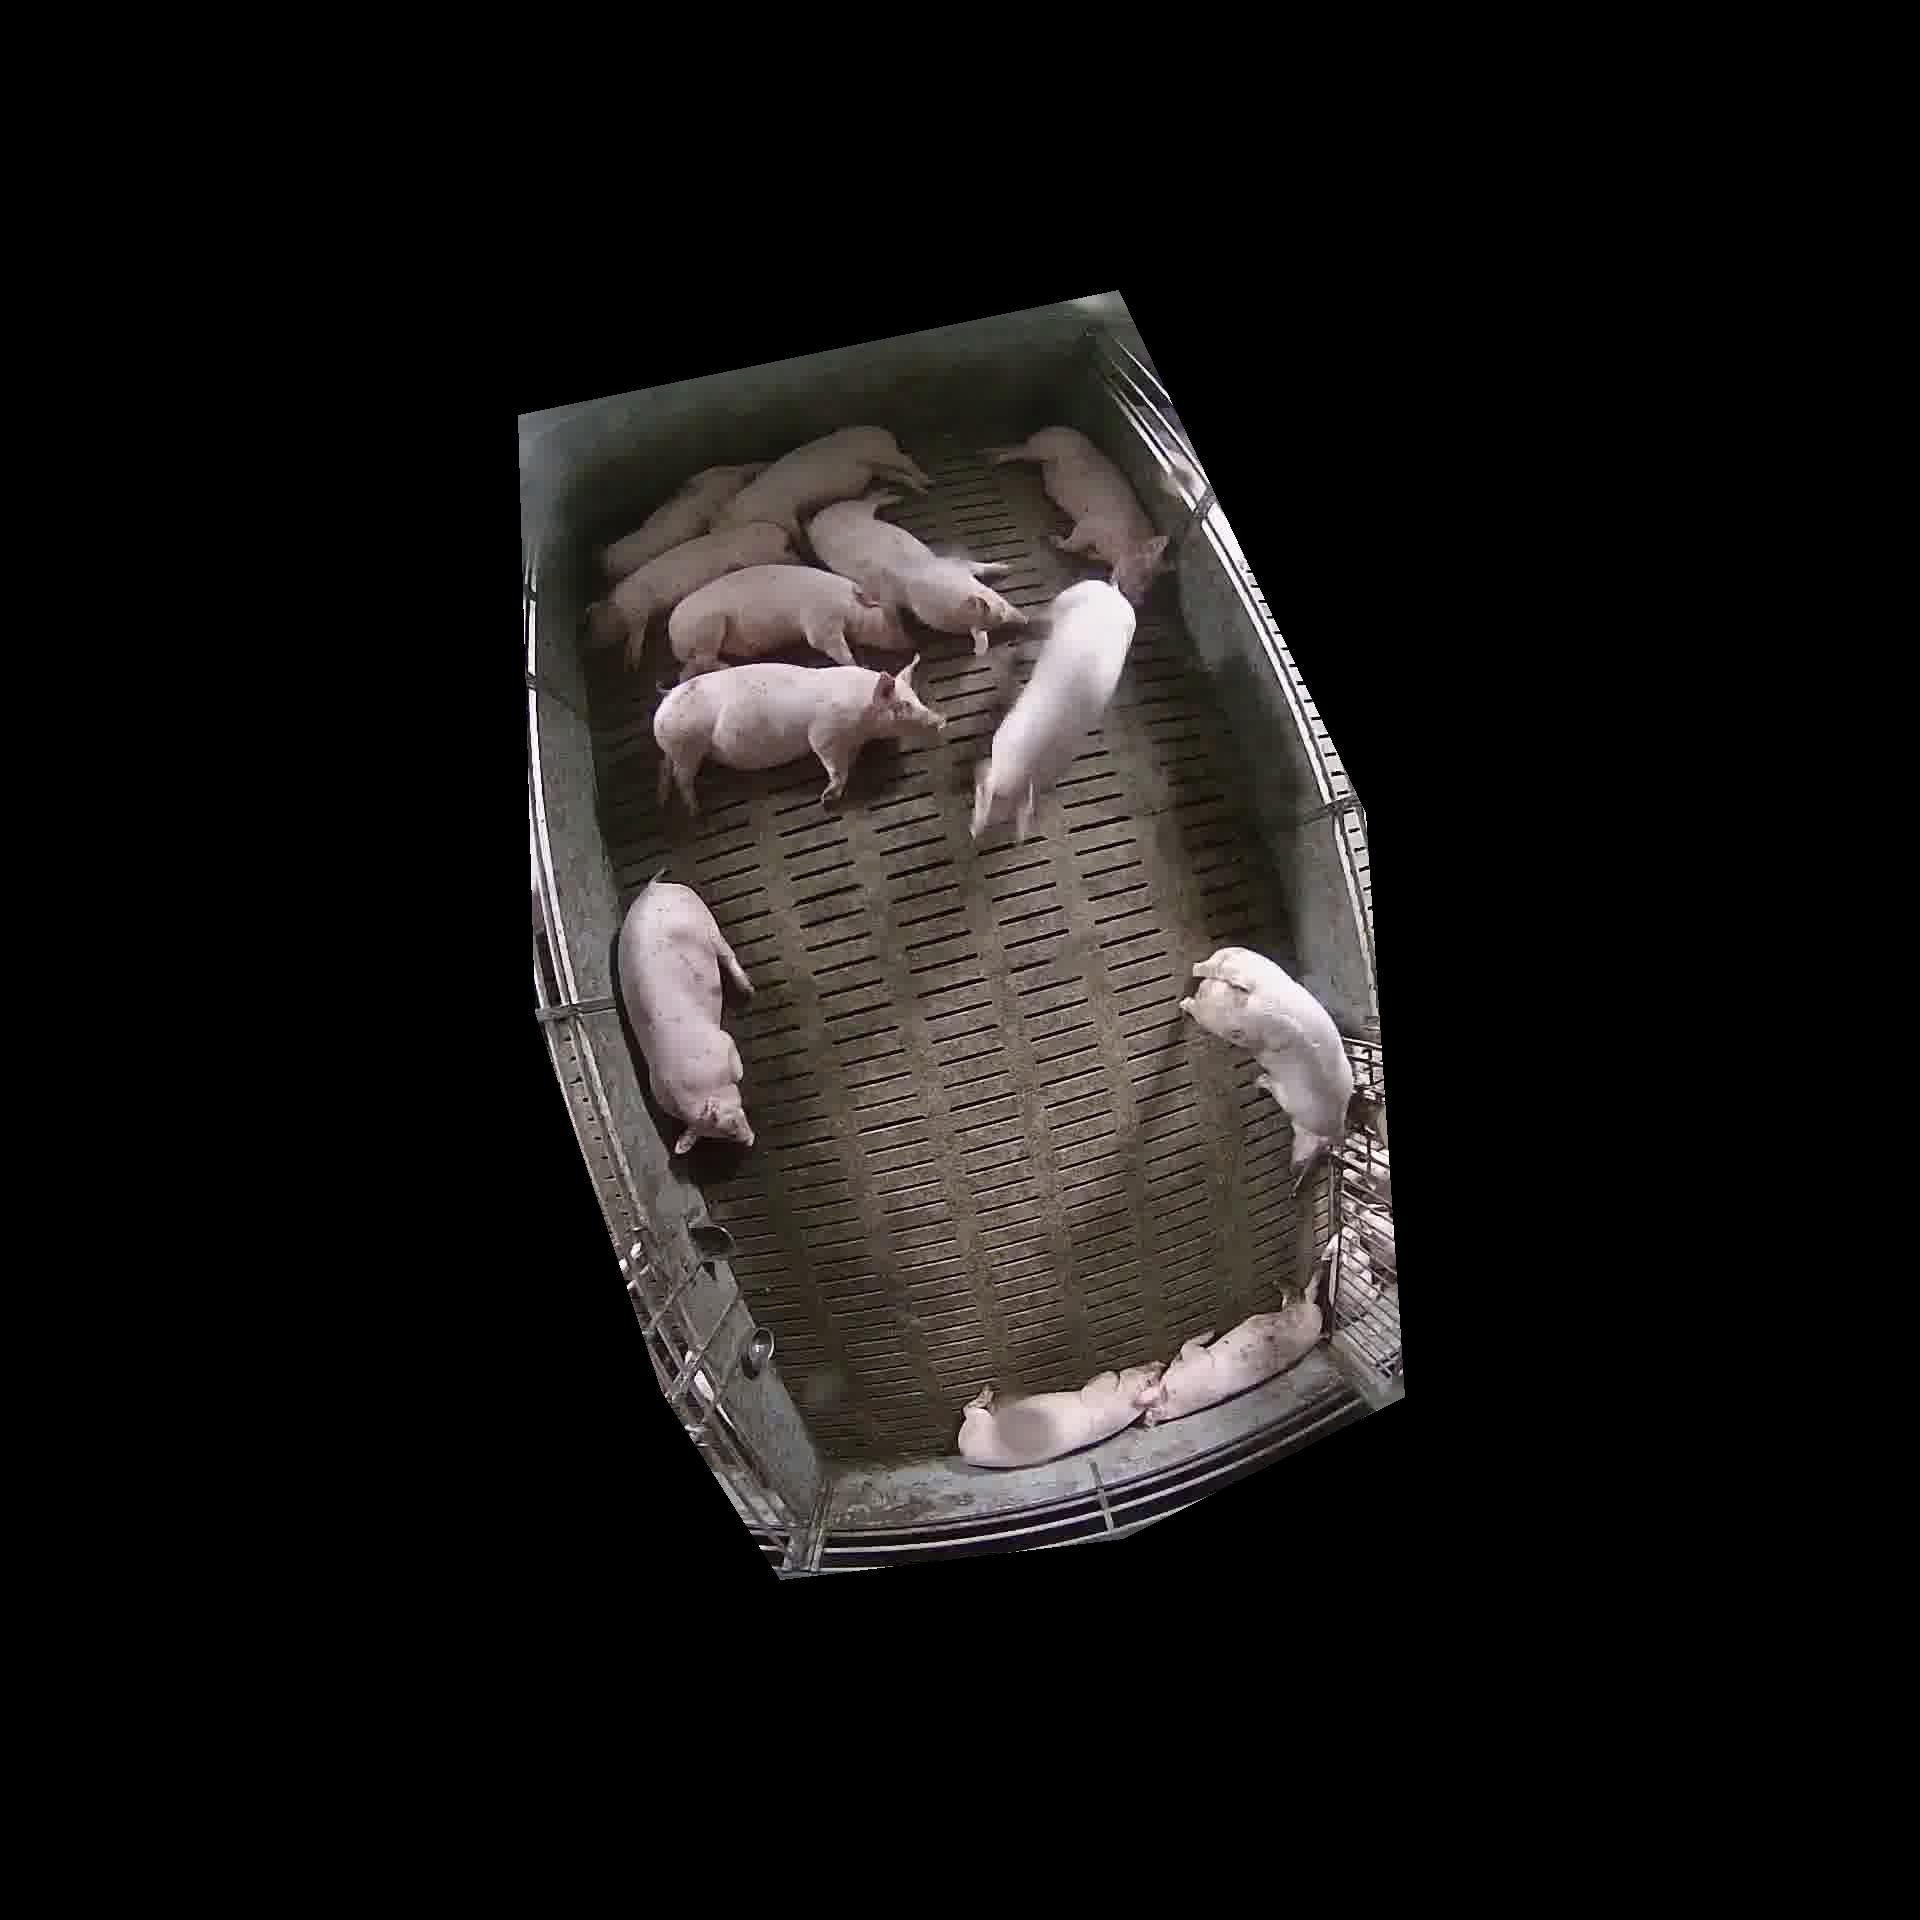pig: (654, 663, 942, 812), (971, 580, 1136, 839), (1182, 948, 1354, 1176), (617, 879, 753, 1153), (807, 492, 1027, 654), (988, 425, 1167, 605), (587, 522, 796, 666), (668, 564, 911, 679), (714, 425, 930, 536), (1143, 1298, 1322, 1422), (958, 1363, 1162, 1466), (596, 464, 765, 582)
